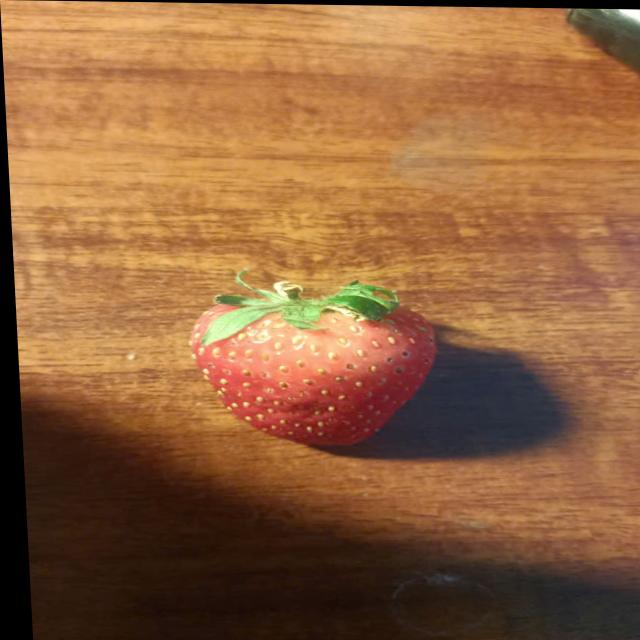DauTay: (176, 260, 463, 464)
